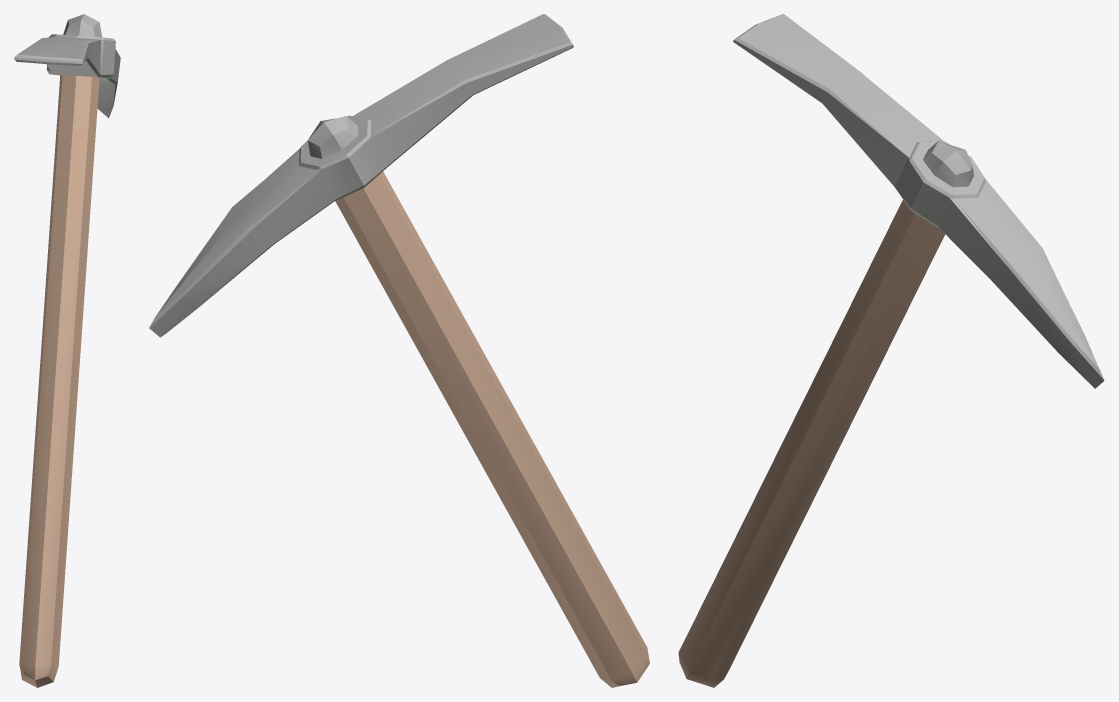
The model's file is totem_minecraft.glb.
3 views of the same model, side by side, from view 1: azimuth 30°, elevation 25°; view 2: azimuth 150°, elevation 25°; view 3: azimuth 270°, elevation 25° (orthographic). The views are drawn at different scales.
Parts seen in each view (by area): view 1: totem_dach_minecraft; view 2: totem_dach_minecraft; view 3: totem_dach_minecraft.
Part boxes in pixels (box(x1,y1,x2,y2)): totem_dach_minecraft: box(14, 14, 120, 687); totem_dach_minecraft: box(149, 14, 649, 687); totem_dach_minecraft: box(678, 14, 1104, 687).
Size of the model in its own units: 0.7683 by 1.65 by 0.9366.
